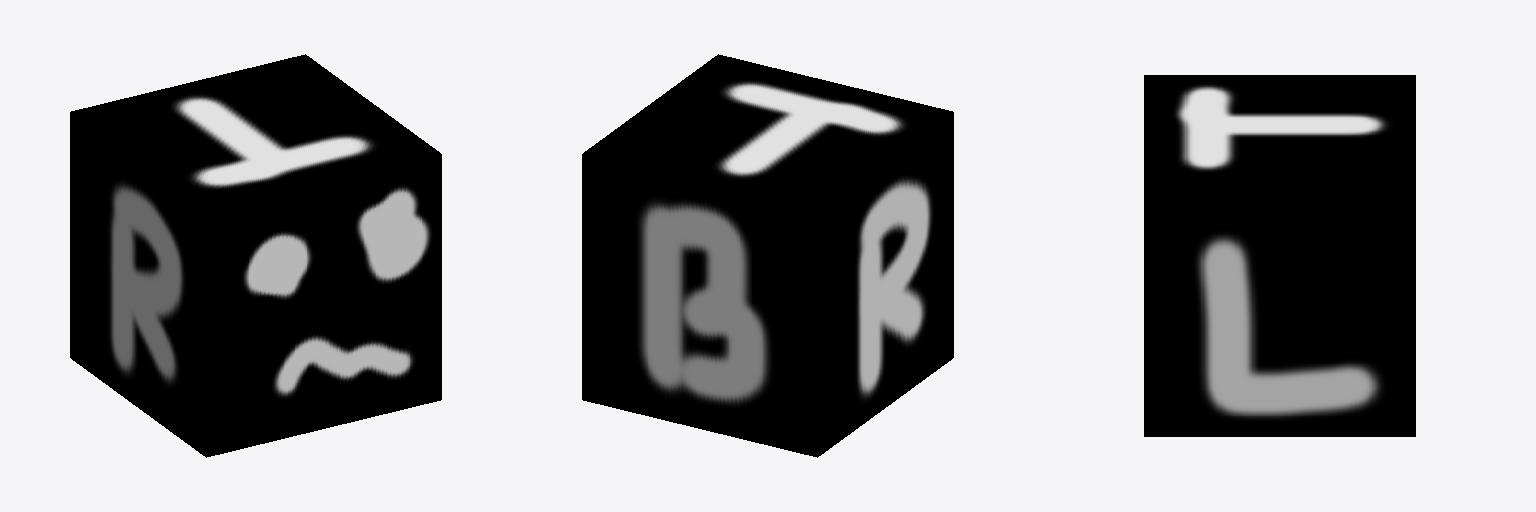
The picture shows the model from 3 angles: view 1: azimuth 30°, elevation 25°; view 2: azimuth 150°, elevation 25°; view 3: azimuth 270°, elevation 25°; orthographic projection.
Visible parts, largest first — view 1: 立方体; view 2: 立方体; view 3: 立方体.
Boxes of the visible parts, <box> form: 立方体: <box>70,54,441,457</box>; 立方体: <box>582,54,953,457</box>; 立方体: <box>1144,75,1415,436</box>.
Bounding box in the file's own units: 2 × 2 × 2.
1 materials, 1 textured.